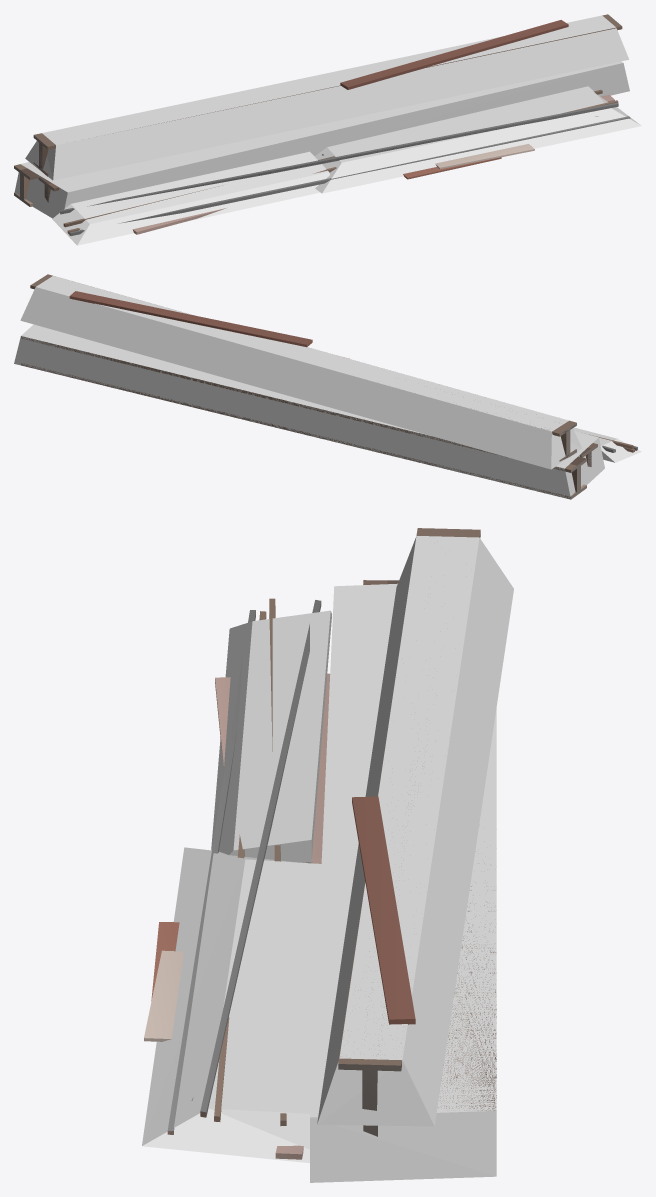
Rendered from port_scrap1.dae.
3 views of the same model, one above another, from view 1: azimuth 30°, elevation 25°; view 2: azimuth 150°, elevation 25°; view 3: azimuth 270°, elevation 25° (orthographic). The views are drawn at different scales.
Parts seen in each view (by area): view 1: Colmesh-1, port_scrap1_a150, port_scrap1_a030; view 2: Colmesh-1, port_scrap1_a150, port_scrap1_a030; view 3: Colmesh-1, port_scrap1_a150.
Boxes of the visible parts, x1,y1,x2,y2 form: Colmesh-1: (14, 15, 641, 245); port_scrap1_a150: (14, 14, 630, 235); port_scrap1_a030: (14, 106, 618, 232); Colmesh-1: (14, 276, 641, 499); port_scrap1_a150: (21, 274, 637, 499); port_scrap1_a030: (70, 297, 633, 498); Colmesh-1: (142, 536, 513, 1182); port_scrap1_a150: (144, 528, 496, 1159).
Size of the model in its own units: 6.27 by 1.77 by 0.678.
